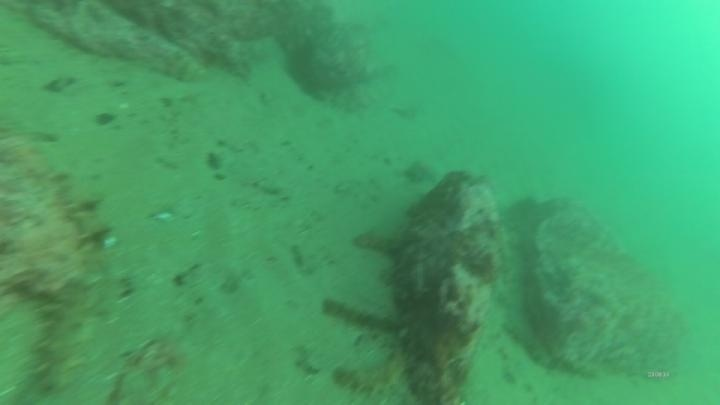holothurian: (29, 277, 98, 396), (329, 349, 419, 403)
starfish: (399, 157, 441, 189)
